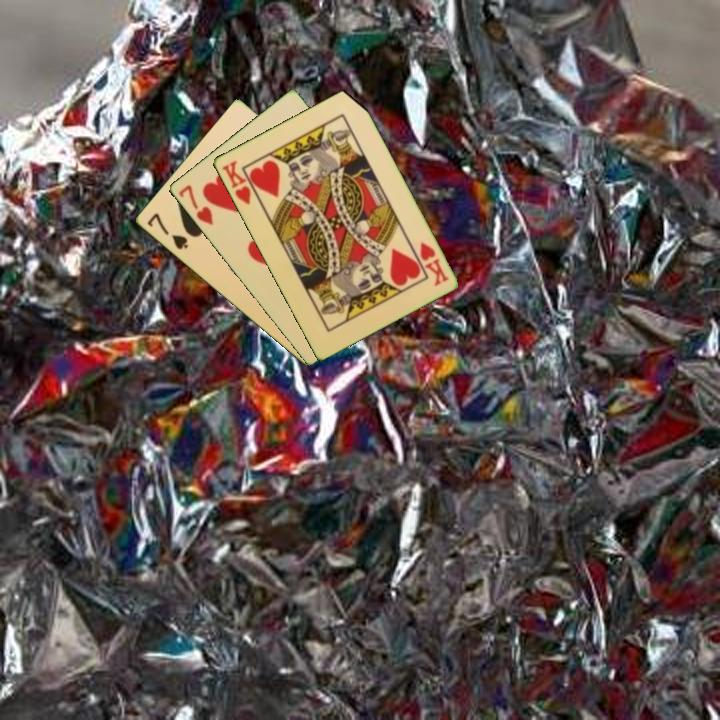7h: (174, 181, 216, 228)
7s: (143, 209, 191, 253)
Kh: (218, 157, 262, 208), (416, 238, 451, 289)
